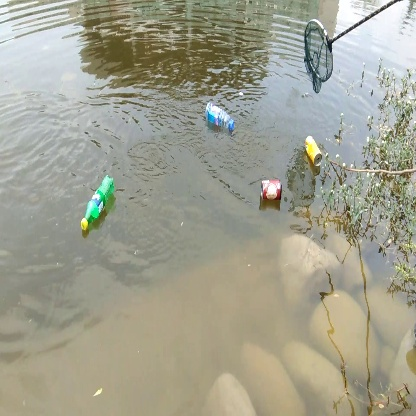bottle: (79, 174, 118, 235), (203, 98, 238, 132), (304, 133, 326, 171), (260, 176, 283, 203)
